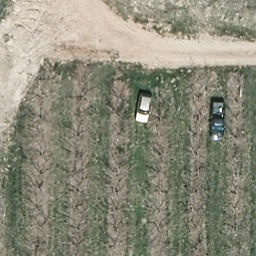car: (133, 91, 154, 123)
pickup: (210, 100, 226, 141)
